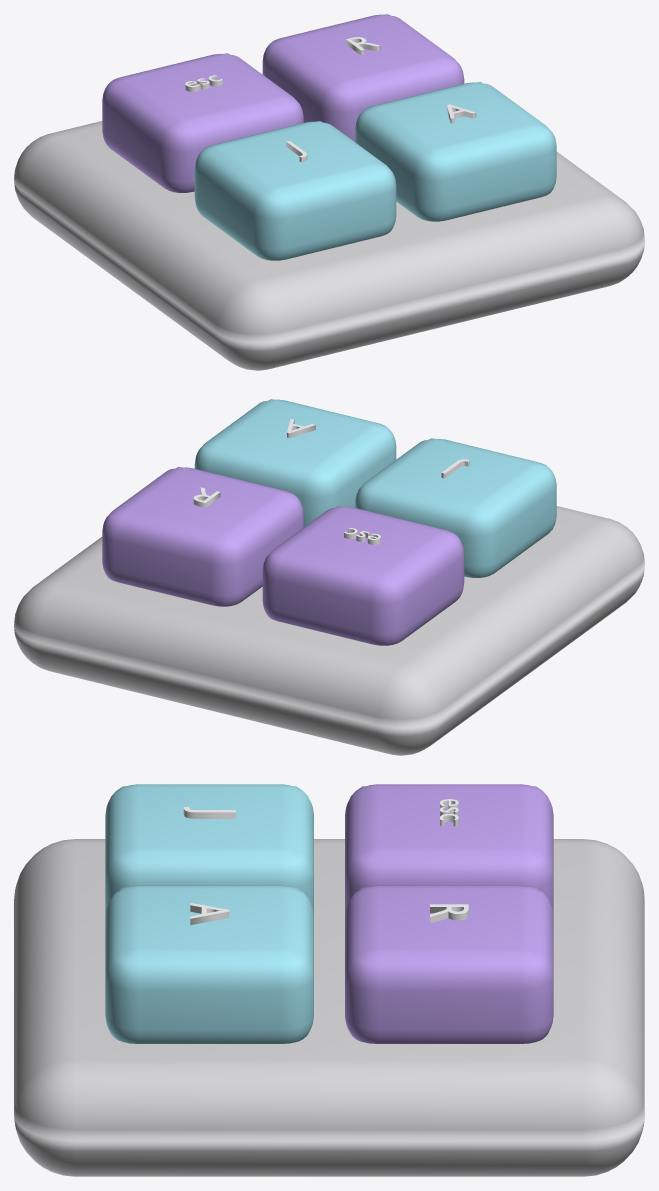
Rendered from click-4-buttons.glb.
3 renders of one model, top to bottom at view 1: azimuth 30°, elevation 25°; view 2: azimuth 150°, elevation 25°; view 3: azimuth 270°, elevation 25°, orthographic. The views are drawn at different scales.
Parts seen in each view (by area): view 1: KeyboardBase, Key_BL, Key_BR, Key_TL, Key_TR; view 2: KeyboardBase, Key_TL, Key_TR, Key_BL, Key_BR; view 3: KeyboardBase, Key_BR, Key_TR, Key_TL, Key_BL, Lbl_Key_TR, Lbl_Key_BR.
Boxes of the visible parts, box(x1,y1,x2,y2) form: KeyboardBase: box(14, 121, 644, 370); Key_BL: box(194, 121, 396, 260); Key_BR: box(355, 82, 556, 221); Key_TL: box(102, 53, 303, 192); Key_TR: box(262, 14, 464, 141); KeyboardBase: box(14, 506, 644, 755); Key_TL: box(262, 506, 464, 645); Key_TR: box(102, 467, 303, 606); Key_BL: box(355, 438, 556, 577); Key_BR: box(194, 399, 396, 526); KeyboardBase: box(14, 839, 644, 1176); Key_BR: box(105, 885, 313, 1043); Key_TR: box(345, 885, 553, 1043); Key_TL: box(345, 784, 553, 914); Key_BL: box(105, 784, 313, 914); Lbl_Key_TR: box(430, 904, 468, 923); Lbl_Key_BR: box(190, 903, 229, 925).
Bounding box in the file's own units: 2.66 × 0.947 × 2.66.
